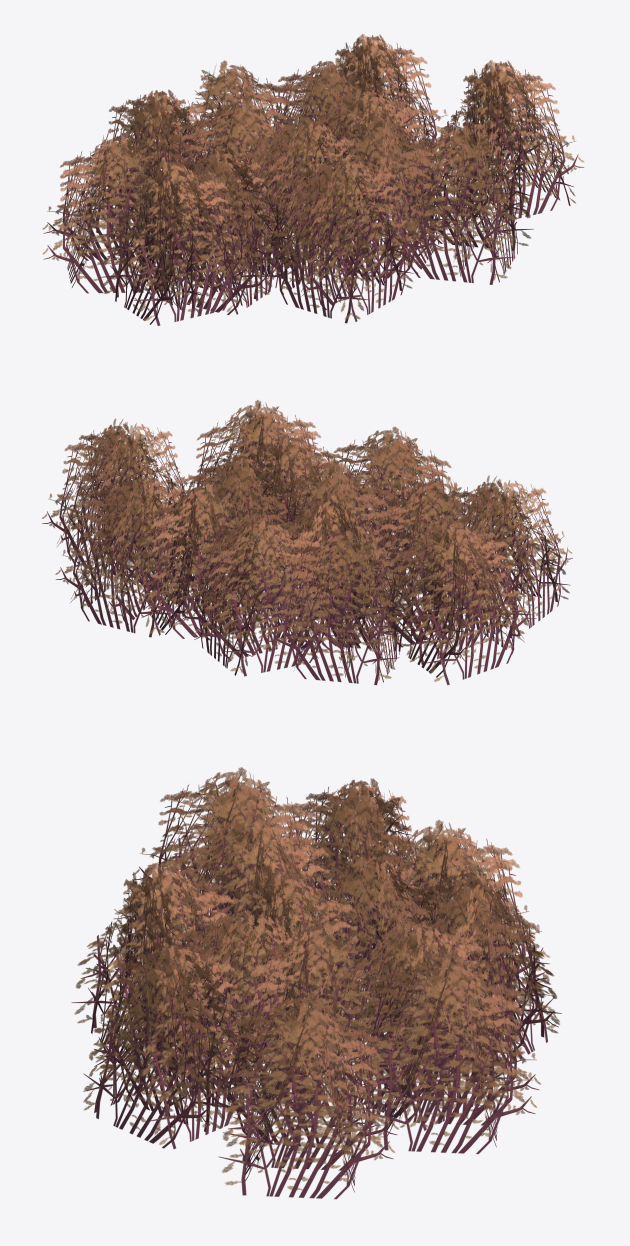
File: grass_red.glb
The picture shows the model from 3 angles, top to bottom: view 1: azimuth 30°, elevation 25°; view 2: azimuth 150°, elevation 25°; view 3: azimuth 270°, elevation 25°; orthographic projection. The views are drawn at different scales.
Visible parts, largest first — view 1: grass_green_lod_1; view 2: grass_green_lod_1; view 3: grass_green_lod_1.
Boxes of the visible parts, box(x1,y1,x2,y2) form: grass_green_lod_1: box(42, 34, 583, 325); grass_green_lod_1: box(42, 400, 572, 685); grass_green_lod_1: box(71, 767, 561, 1199).
Bounding box in the file's own units: 3.98 × 1.09 × 3.01.
1 material, 1 textured.
